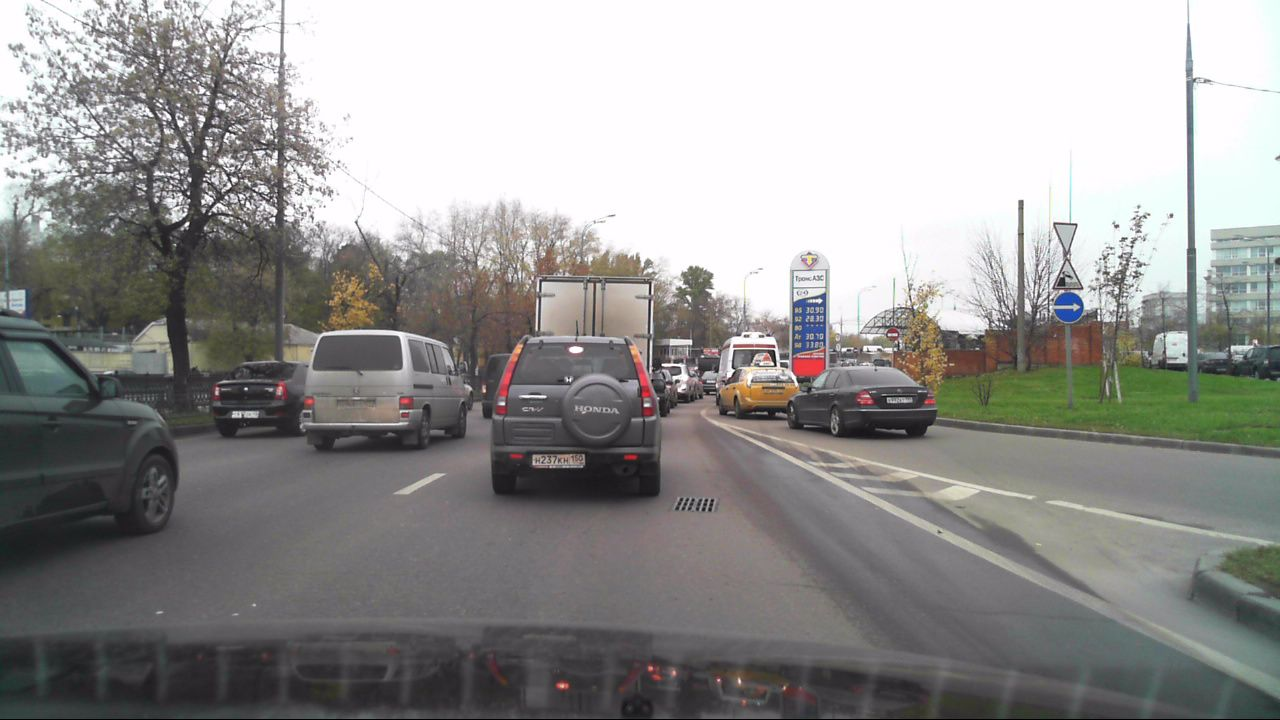Turn Right: (1053, 292, 1084, 323)
